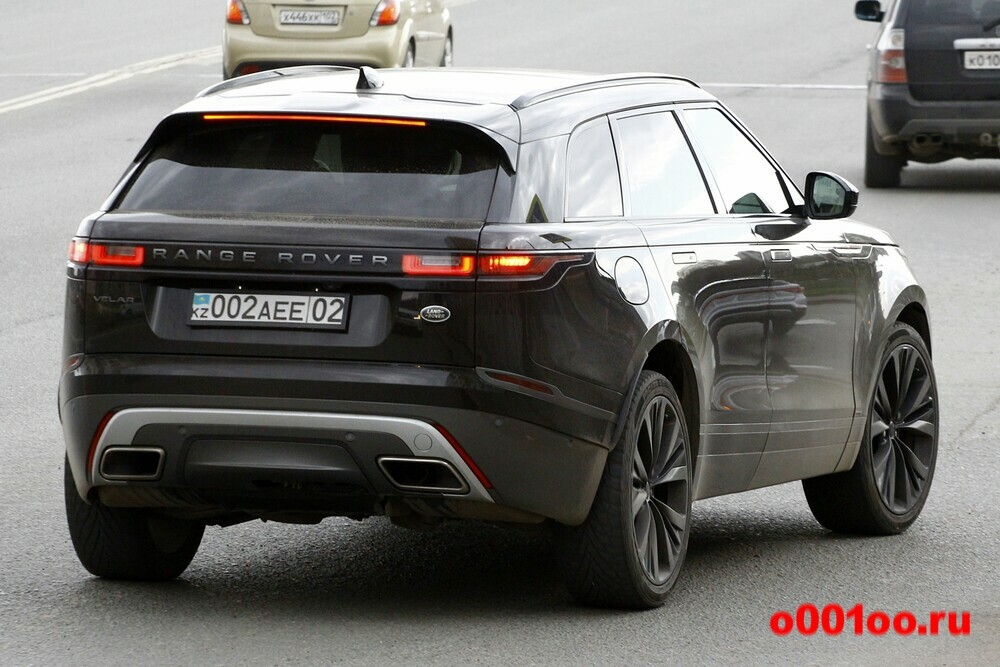license_plate: (190, 288, 350, 332)
